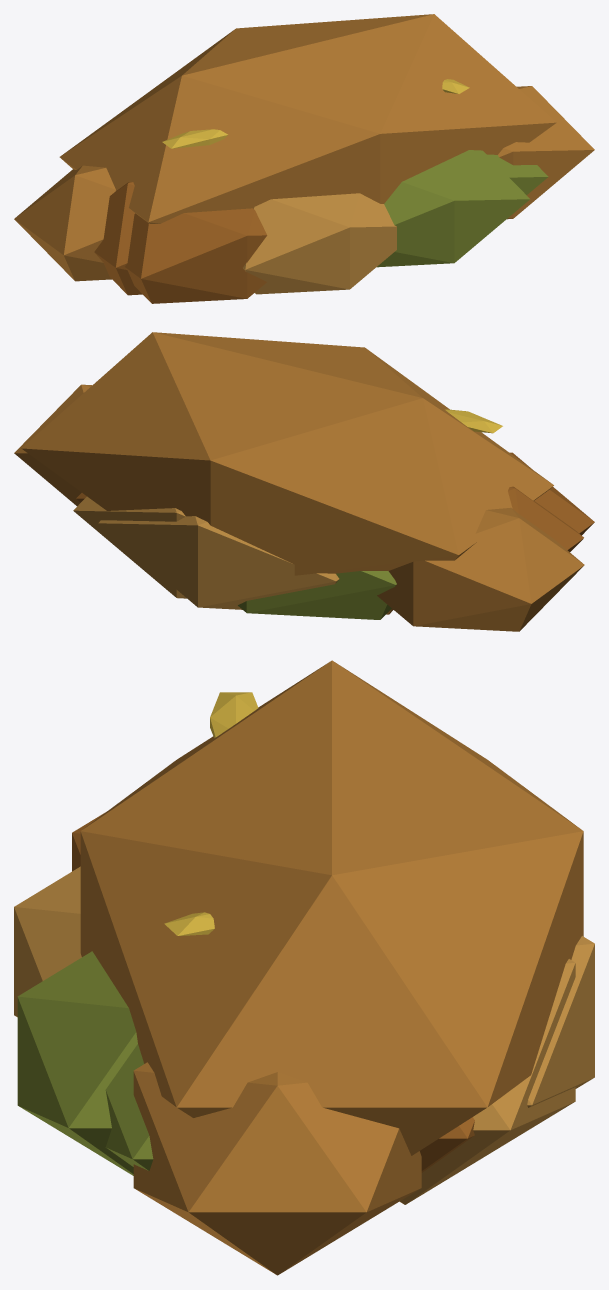
File: leafPile.glb
3 renders of one model, top to bottom at view 1: azimuth 30°, elevation 25°; view 2: azimuth 150°, elevation 25°; view 3: azimuth 270°, elevation 25°, orthographic. The views are drawn at different scales.
Visible parts, largest first — view 1: leafPile_mesh; view 2: leafPile_mesh; view 3: leafPile_mesh.
Part boxes in pixels (box(x1,y1,x2,y2)): leafPile_mesh: box(14, 14, 594, 303); leafPile_mesh: box(14, 332, 594, 631); leafPile_mesh: box(14, 660, 594, 1275).
Size of the model in its own units: 2.66 by 1.05 by 1.51.
